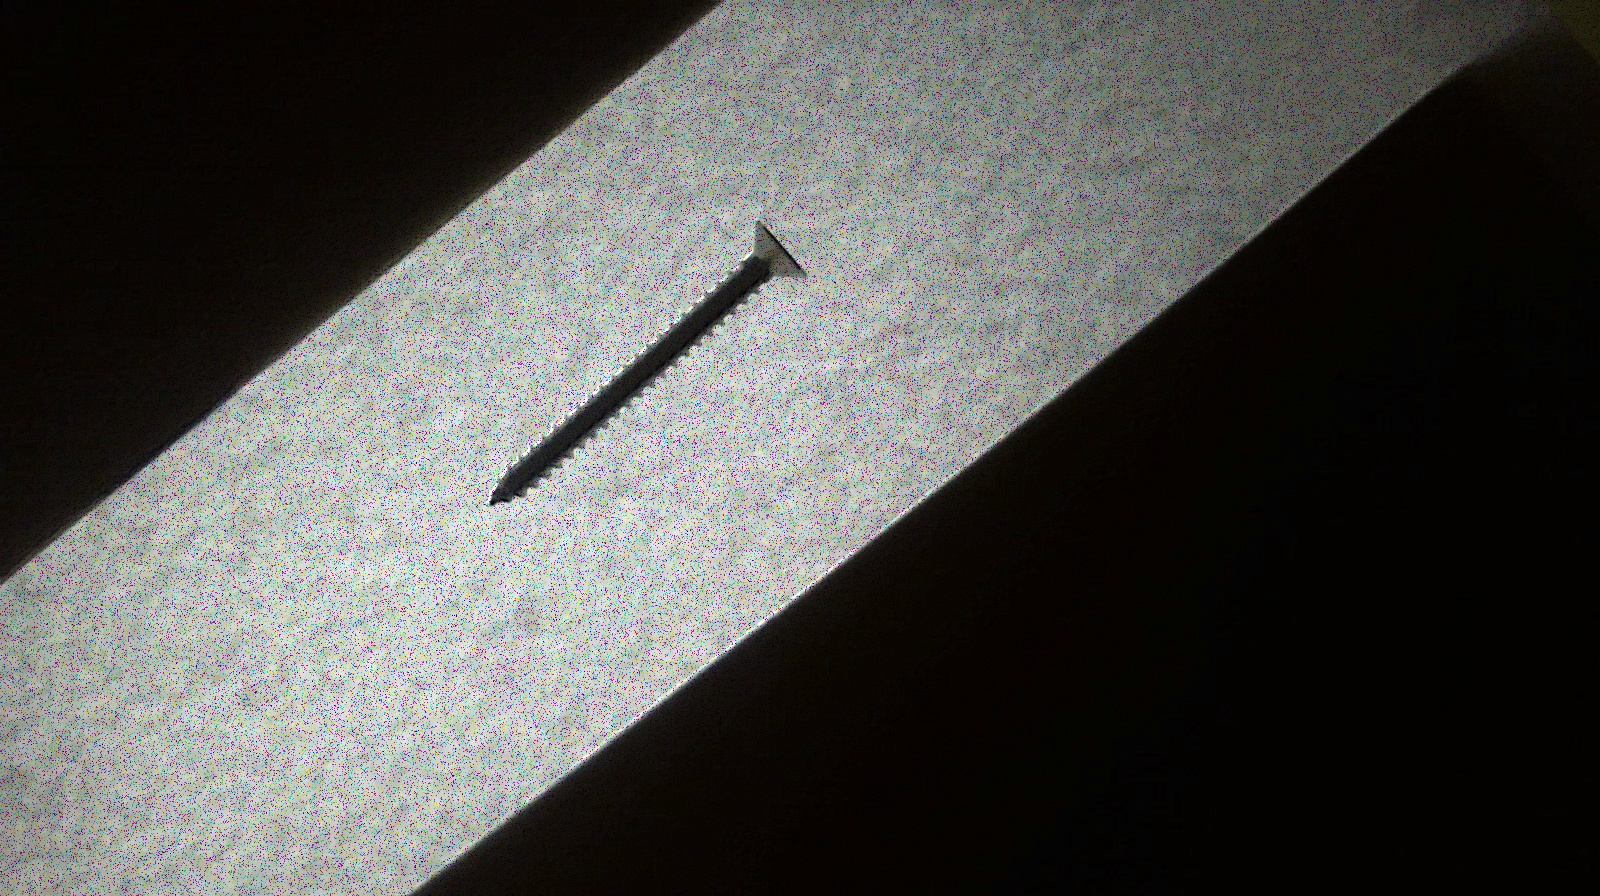S002: (446, 203, 836, 518)
